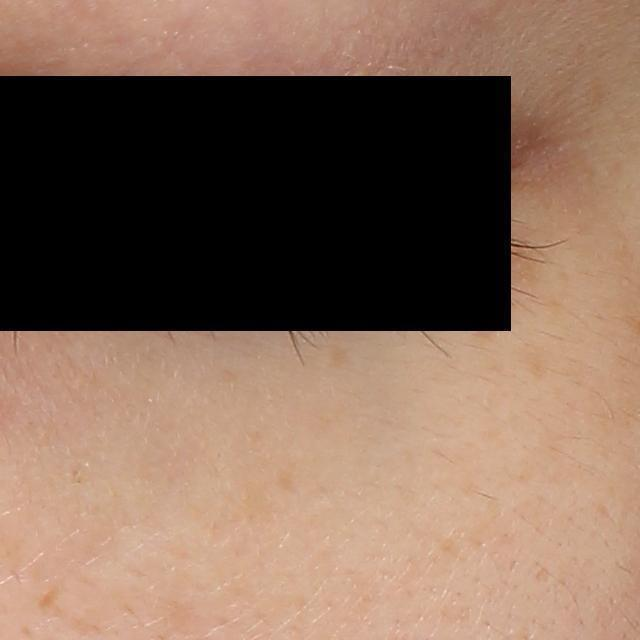melasma: (513, 342, 553, 380), (326, 342, 356, 370)
